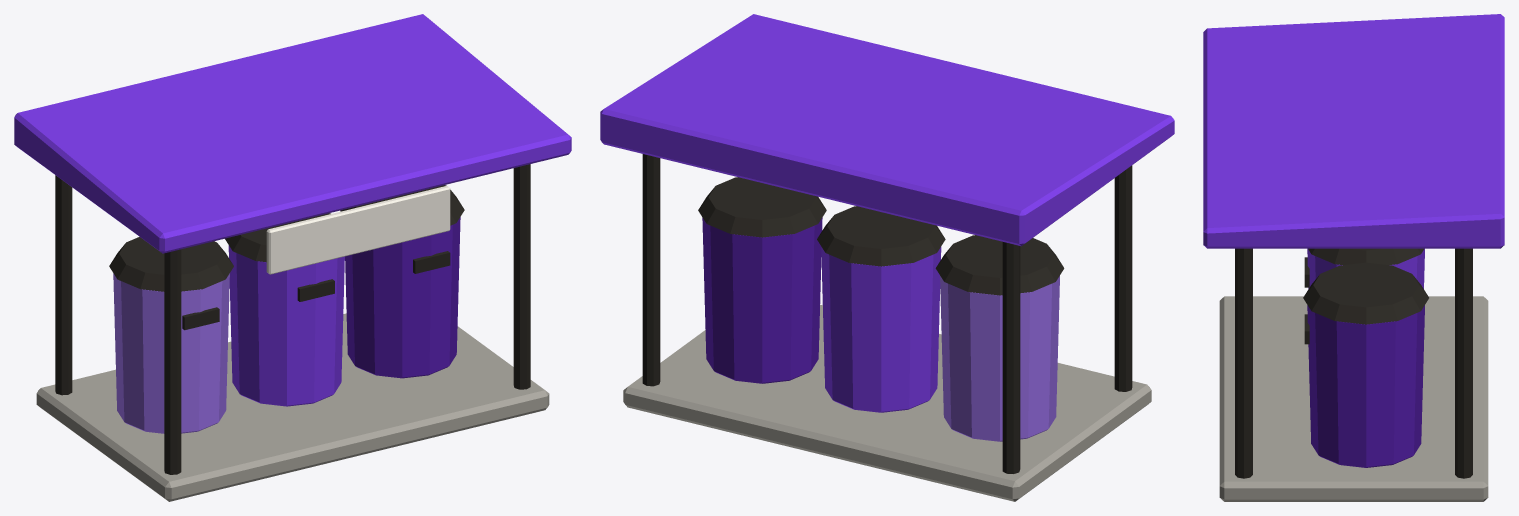
The model's file is recycling.glb.
The picture shows the model from 3 angles, left to right: view 1: azimuth 30°, elevation 25°; view 2: azimuth 150°, elevation 25°; view 3: azimuth 270°, elevation 25°; orthographic projection. The views are drawn at different scales.
Parts seen in each view (by area): view 1: body, metal, ink, body3, body2, paper; view 2: body, metal, ink, body3, body2; view 3: body, metal, body3, ink.
Boxes of the visible parts, bbox=[...] form: body: bbox=[14, 14, 571, 406]; metal: bbox=[36, 313, 549, 501]; ink: bbox=[55, 164, 530, 474]; body3: bbox=[345, 217, 460, 378]; body2: bbox=[113, 273, 229, 433]; paper: bbox=[266, 186, 450, 274]; body: bbox=[600, 14, 1174, 412]; metal: bbox=[623, 304, 1151, 501]; ink: bbox=[642, 154, 1132, 473]; body3: bbox=[702, 217, 822, 383]; body2: bbox=[940, 276, 1059, 441]; body: bbox=[1203, 14, 1504, 288]; metal: bbox=[1219, 296, 1488, 501]; body3: bbox=[1307, 305, 1424, 467]; ink: bbox=[1235, 248, 1472, 478].
Bounding box in the file's own units: 11.8 × 8 × 7.4.
